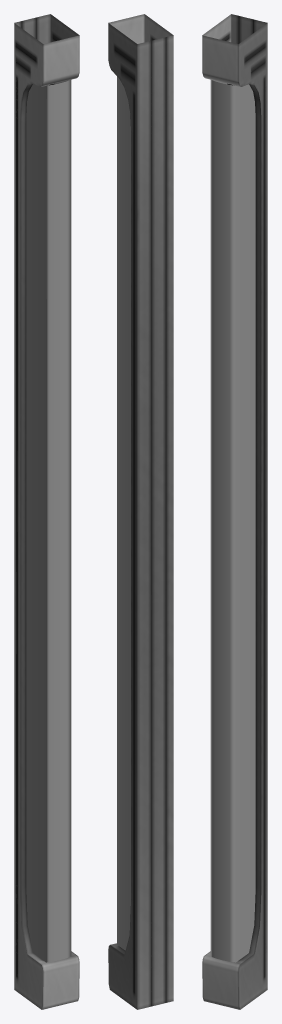
Rendered from SL_Light.fbx.
3 renders of one model, left to right at view 1: azimuth 30°, elevation 25°; view 2: azimuth 210°, elevation 25°; view 3: azimuth 330°, elevation 25°, orthographic.
Parts seen in each view (by area): view 1: SL_Light; view 2: SL_Light; view 3: SL_Light.
Boxes of the visible parts, x1,y1,x2,y2 form: SL_Light: [14, 14, 79, 1009]; SL_Light: [108, 14, 173, 1009]; SL_Light: [202, 14, 267, 1009].
Size of the model in its own units: 0.1773 by 4.51 by 0.2462.
2 materials, 1 textured.
